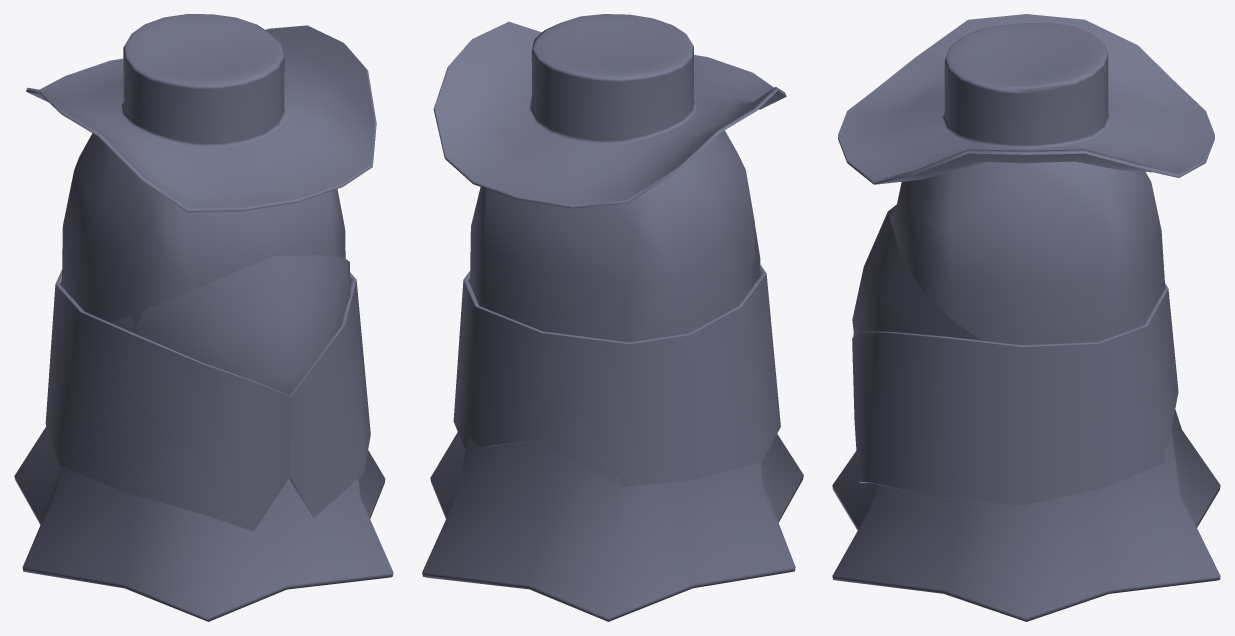
File: enemy_bandit.fbx
3 views of the same model, side by side, from view 1: azimuth 30°, elevation 25°; view 2: azimuth 150°, elevation 25°; view 3: azimuth 270°, elevation 25° (orthographic).
Visible parts, largest first — view 1: Main_Body2, polySurface9, hat3, pCylinder8; view 2: Main_Body2, hat3, polySurface9; view 3: Main_Body2, polySurface9, hat3, pCylinder8.
Boxes of the visible parts, <box> form: Main_Body2: <box>14,133,393,621</box>; polySurface9: <box>45,269,370,531</box>; hat3: <box>26,14,376,212</box>; pCylinder8: <box>110,255,350,395</box>; Main_Body2: <box>422,130,803,621</box>; hat3: <box>433,14,786,208</box>; polySurface9: <box>453,265,780,486</box>; Main_Body2: <box>832,161,1220,621</box>; polySurface9: <box>852,283,1178,505</box>; hat3: <box>838,14,1214,184</box>; pCylinder8: <box>852,204,980,340</box>.
Size of the model in its own units: 105 by 134 by 97.21.
